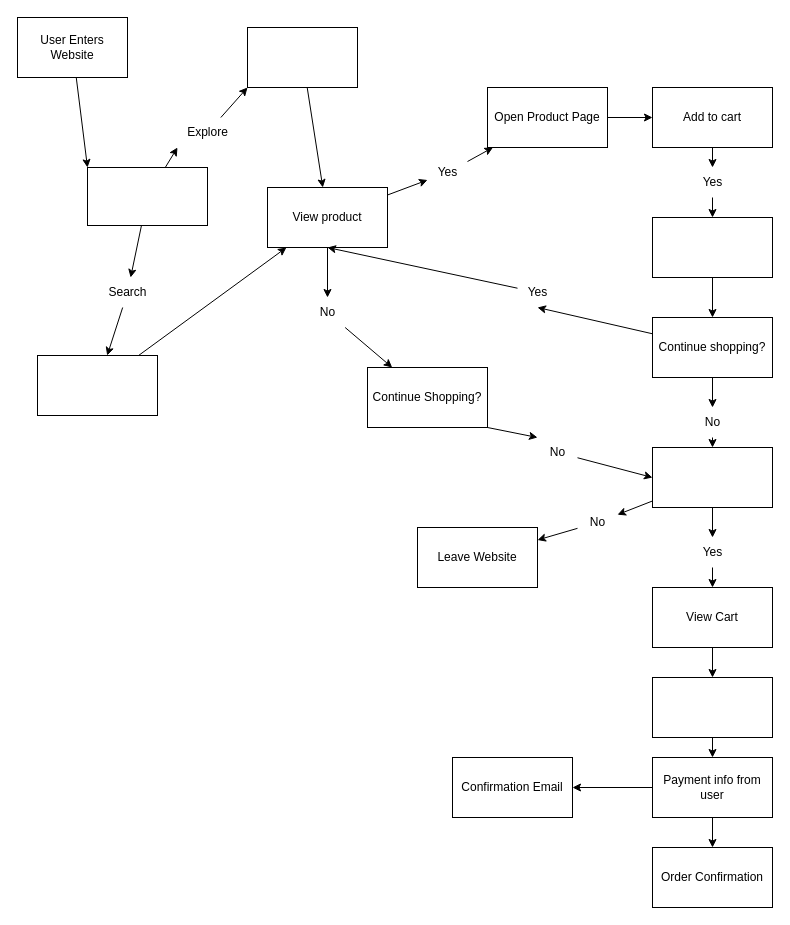
This 790x925 diagram has some shape labels left out. Here are the shapes that lost their labels. From the top down, the centre of each, then its label:
(x=302, y=57): User finds product through exploring on webpage
(x=147, y=196): Search or Explore
(x=712, y=247): Added to cart confirmation
(x=97, y=385): User finds product through search bar
(x=712, y=477): Checkout?
(x=712, y=707): View Payment
